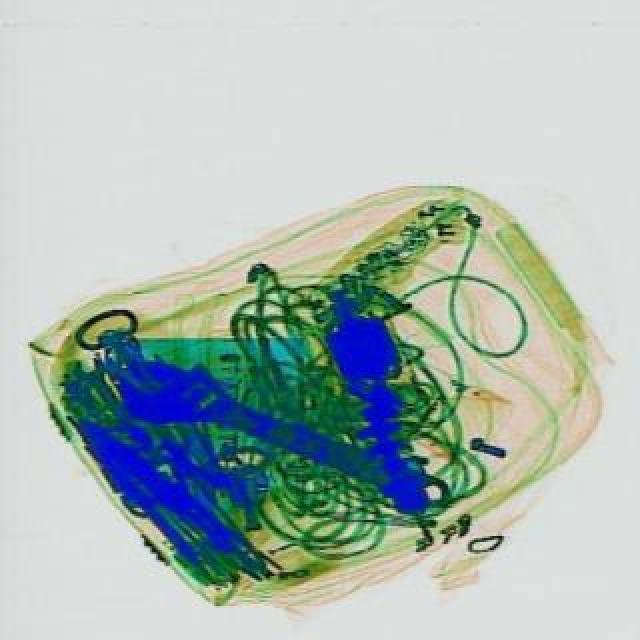scissors: (104, 338, 464, 534)
wrench: (60, 404, 236, 574)
